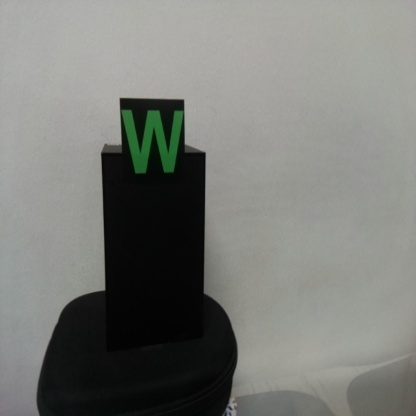id_12: (120, 97, 185, 192)
